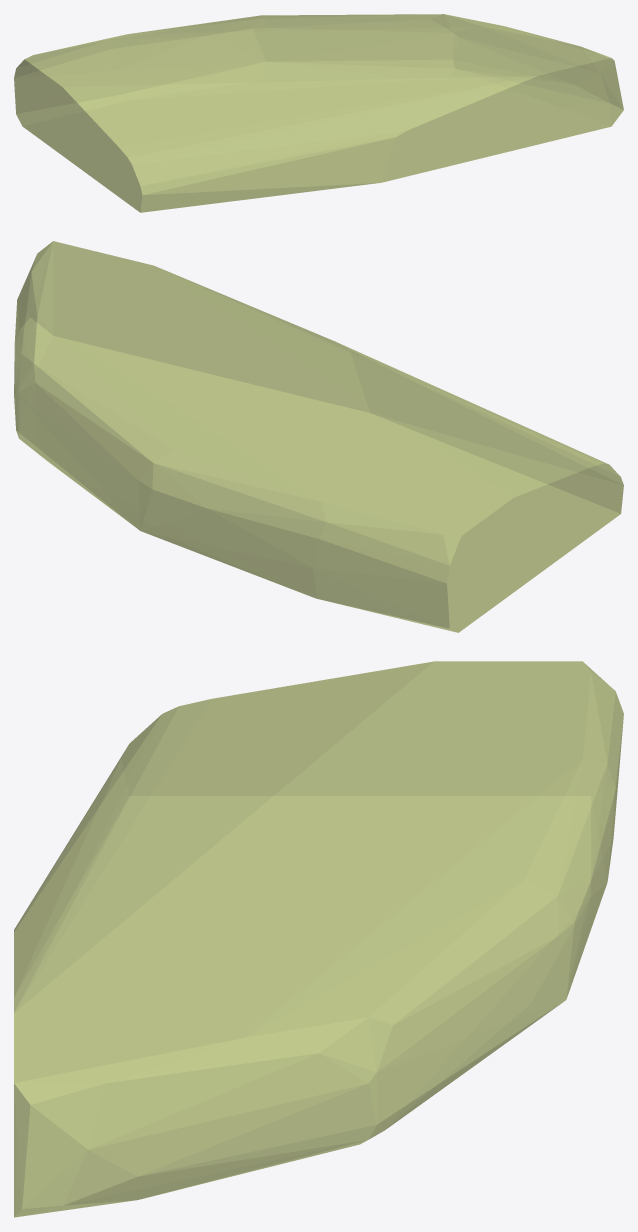
The picture shows the model from 3 angles, top to bottom: view 1: azimuth 30°, elevation 25°; view 2: azimuth 150°, elevation 25°; view 3: azimuth 270°, elevation 25°; orthographic projection. The views are drawn at different scales.
Parts seen in each view (by area): view 1: Shape_IndexedFaceSet.002_Shape_IndexedFaceSet.16311; view 2: Shape_IndexedFaceSet.002_Shape_IndexedFaceSet.16311; view 3: Shape_IndexedFaceSet.002_Shape_IndexedFaceSet.16311.
Part boxes in pixels (left/top/right/bottom): Shape_IndexedFaceSet.002_Shape_IndexedFaceSet.16311: left=14, top=14, right=623, bottom=212; Shape_IndexedFaceSet.002_Shape_IndexedFaceSet.16311: left=14, top=241, right=623, bottom=632; Shape_IndexedFaceSet.002_Shape_IndexedFaceSet.16311: left=14, top=661, right=623, bottom=1217.
Size of the model in its own units: 0.3232 by 0.0465 by 0.1913.
